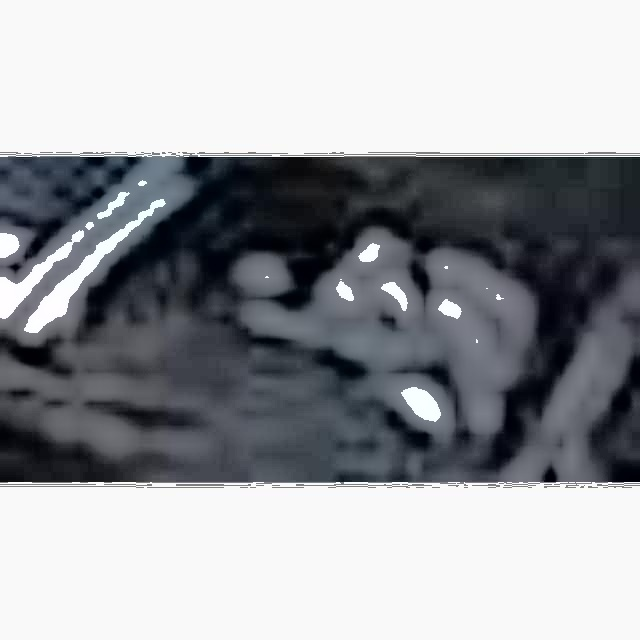pakai: (283, 230, 514, 430)
